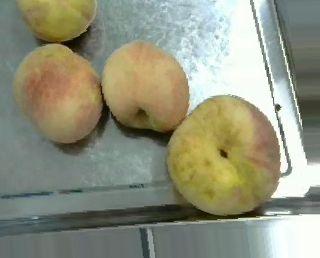Peach: (166, 94, 283, 216), (13, 42, 103, 144), (105, 40, 191, 131), (16, 0, 100, 42)
